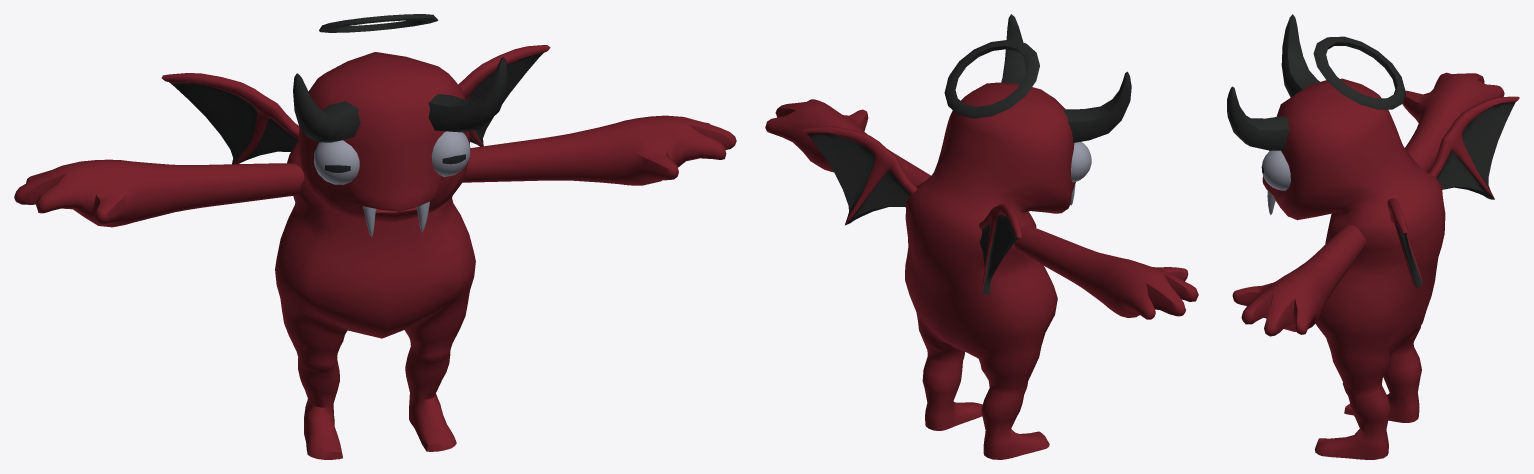
The model's file is Demon.fbx.
3 renders of one model, left to right at view 1: azimuth 30°, elevation 25°; view 2: azimuth 150°, elevation 25°; view 3: azimuth 270°, elevation 25°, orthographic. The views are drawn at different scales.
Visible parts, largest first — view 1: Demon; view 2: Demon; view 3: Demon.
Part boxes in pixels (left/top/right/bottom): Demon: left=14, top=14, right=736, bottom=459; Demon: left=765, top=14, right=1198, bottom=459; Demon: left=1227, top=14, right=1519, bottom=459.
Bounding box in the file's own units: 397 × 282 × 194.
